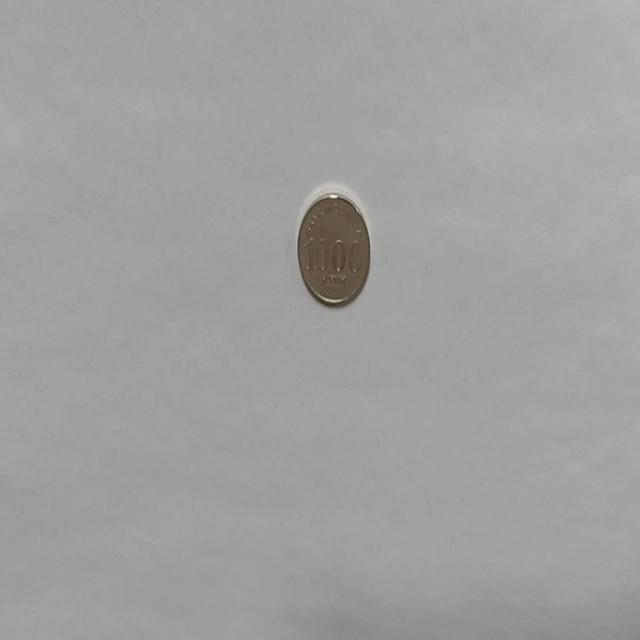seribu rupiah koin: (296, 186, 370, 308)
